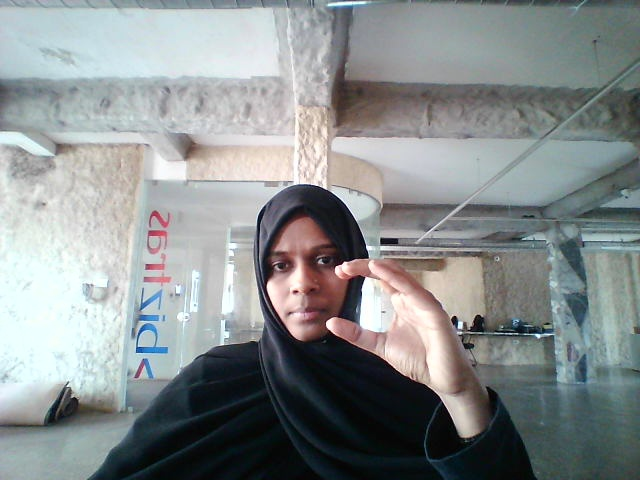NO: (324, 249, 513, 418)
